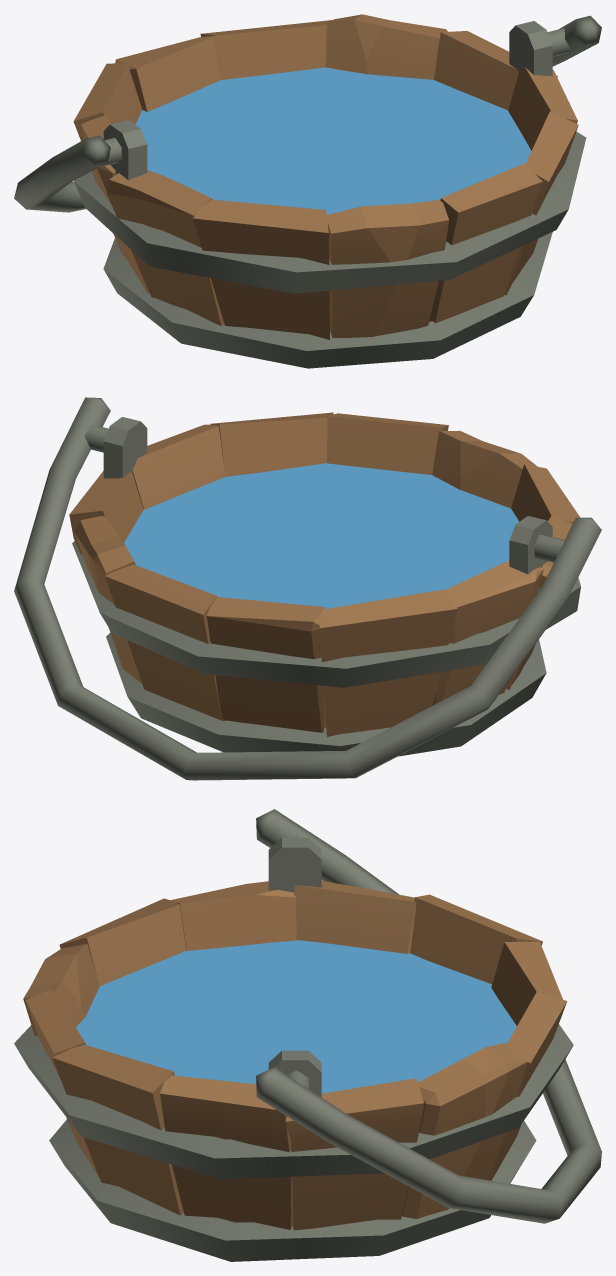
Rendered from Manger_D.fbx.
3 views of the same model, one above another, from view 1: azimuth 30°, elevation 25°; view 2: azimuth 150°, elevation 25°; view 3: azimuth 270°, elevation 25° (orthographic). The views are drawn at different scales.
Visible parts, largest first — view 1: Manger_D; view 2: Manger_D; view 3: Manger_D.
Boxes of the visible parts, x1,y1,x2,y2 form: Manger_D: [14, 14, 601, 368]; Manger_D: [14, 397, 601, 780]; Manger_D: [14, 809, 601, 1261].
Size of the model in its own units: 180 by 71.46 by 164.
